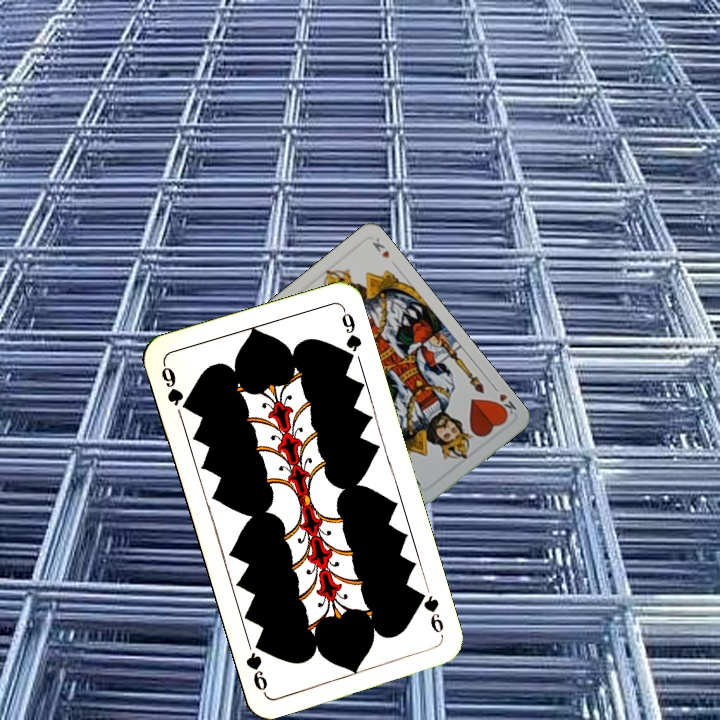G9: (157, 359, 193, 414), (413, 586, 447, 641)
HK: (491, 389, 519, 420)
